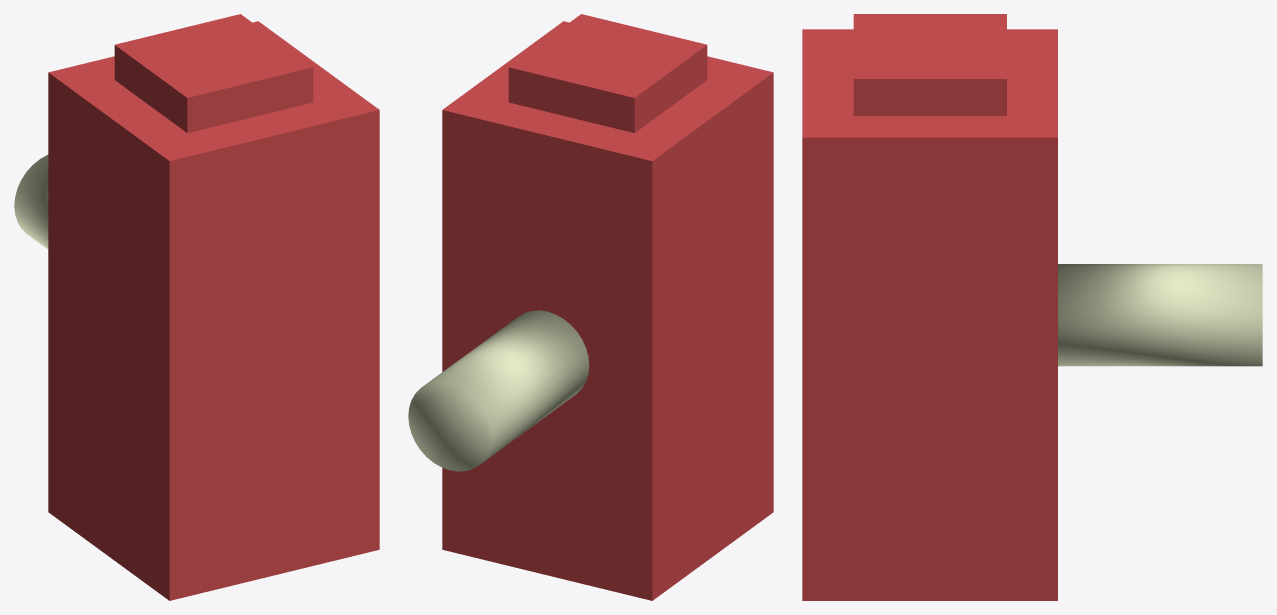
Rendered from character.gltf.
The picture shows the model from 3 angles, left to right: view 1: azimuth 30°, elevation 25°; view 2: azimuth 150°, elevation 25°; view 3: azimuth 270°, elevation 25°; orthographic projection. The views are drawn at different scales.
Parts seen in each view (by area): view 1: Body, Arm; view 2: Body, Arm; view 3: Body, Arm.
Part boxes in pixels (<box>): Body: <box>48,14,379,600</box>; Arm: <box>14,154,48,249</box>; Body: <box>442,14,773,600</box>; Arm: <box>408,310,589,471</box>; Body: <box>802,14,1057,600</box>; Arm: <box>1058,264,1262,366</box>.
Size of the model in its own units: 0.5 by 1.08 by 0.9.
